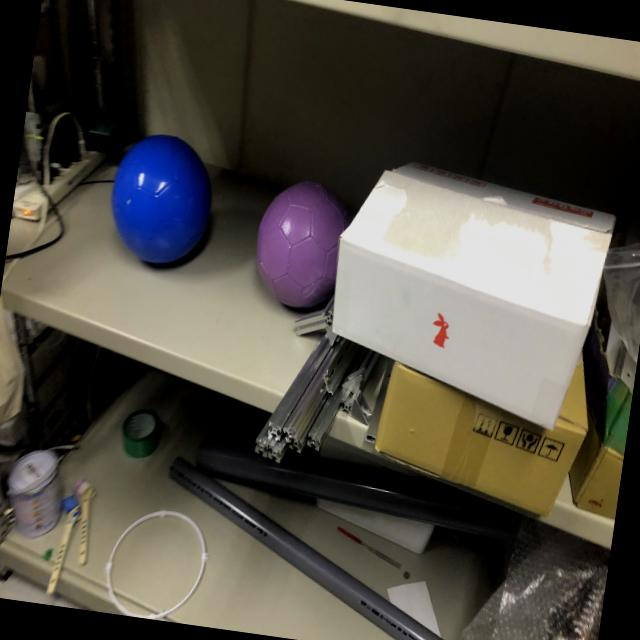blue_ball: (104, 130, 222, 274)
purple_ball: (246, 174, 357, 314)
